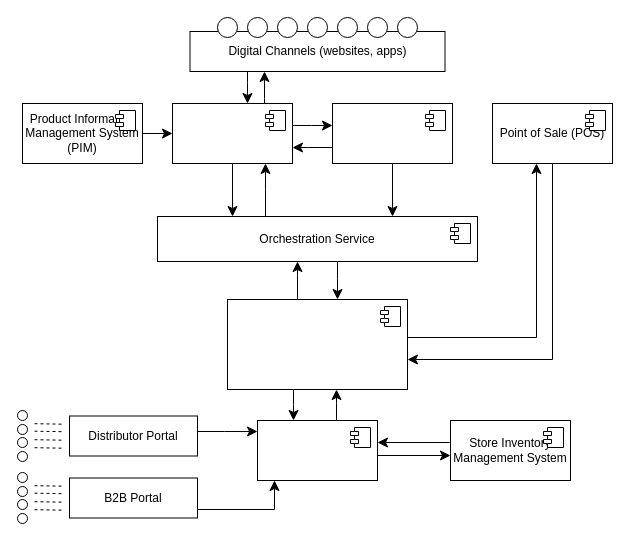
Some shapes in this 630 by 541 pixel diagram are drawn without their labels. Each missing label, with the centre of its shape:
"Customer Relationship Management System (CRM)" belongs at (392,133).
"eCommerce Platform" belongs at (232,133).
"ERP" belongs at (317,450).
"Order Management System (OMS)" belongs at (317,344).
